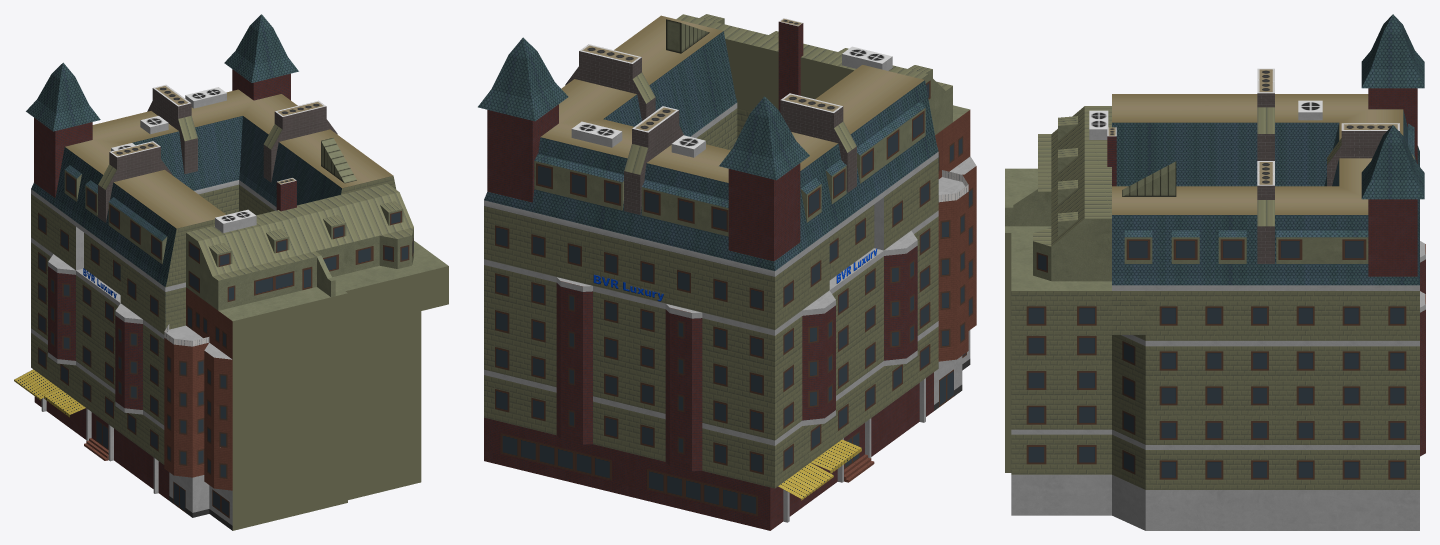
File: BVR Luxury_2_Static.FBX
3 renders of one model, left to right at view 1: azimuth 30°, elevation 25°; view 2: azimuth 150°, elevation 25°; view 3: azimuth 270°, elevation 25°, orthographic. The views are drawn at different scales.
Visible parts, largest first — view 1: Luxury apartments_2_Static; view 2: Luxury apartments_2_Static; view 3: Luxury apartments_2_Static.
Part boxes in pixels (<box>): Luxury apartments_2_Static: <box>14,14,448,530</box>; Luxury apartments_2_Static: <box>478,14,976,530</box>; Luxury apartments_2_Static: <box>1005,14,1425,530</box>.
Size of the model in its own units: 7.27 by 9.15 by 8.84.
